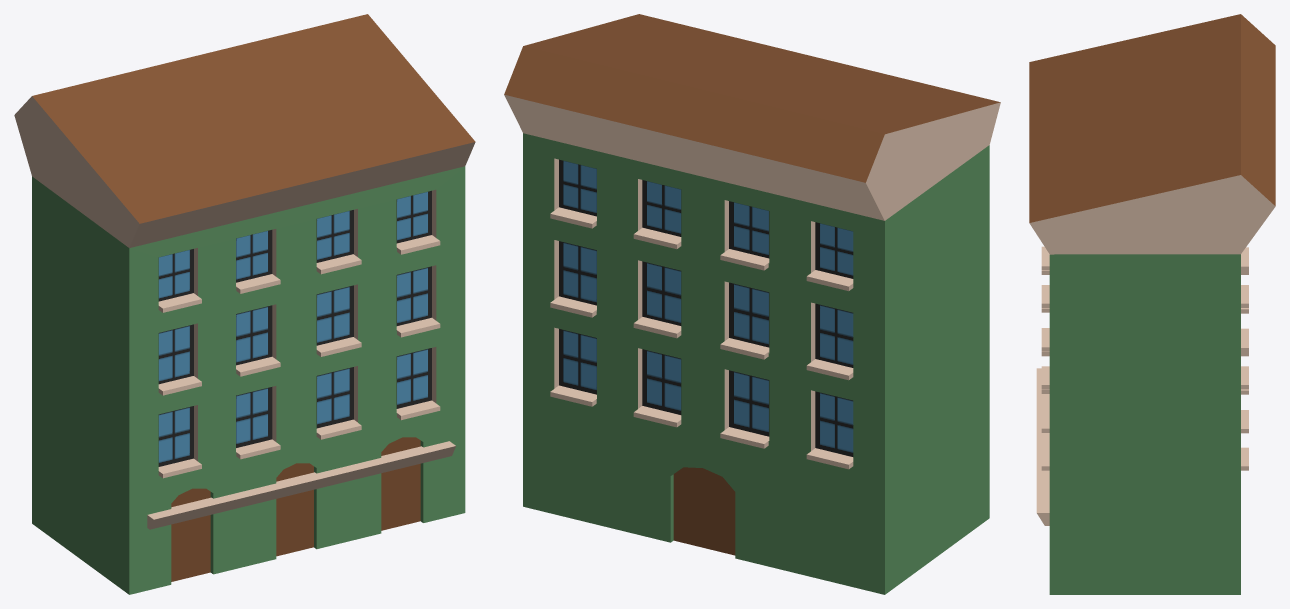
Rendered from BigGreen.obj.
3 views of the same model, side by side, from view 1: azimuth 30°, elevation 25°; view 2: azimuth 150°, elevation 25°; view 3: azimuth 270°, elevation 25° (orthographic). The views are drawn at different scales.
Visible parts, largest first — view 1: DuzyZwyklyZIEL; view 2: DuzyZwyklyZIEL; view 3: DuzyZwyklyZIEL.
Boxes of the visible parts, <box> form: DuzyZwyklyZIEL: <box>14,14,475,594</box>; DuzyZwyklyZIEL: <box>504,14,1000,594</box>; DuzyZwyklyZIEL: <box>1029,14,1275,594</box>.
Bounding box in the file's own units: 10.96 × 13.33 × 7.09.
